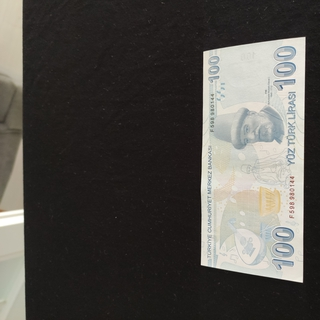100TLBack: (199, 35, 307, 284)
